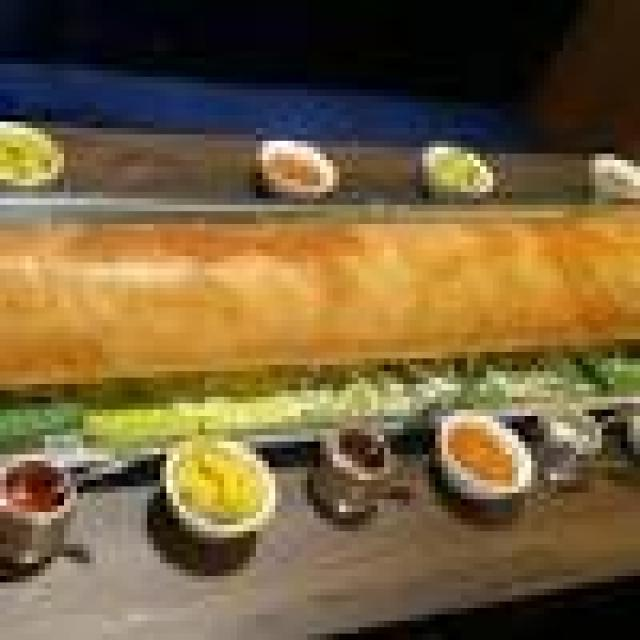Wet Waste: (0, 224, 634, 352)
